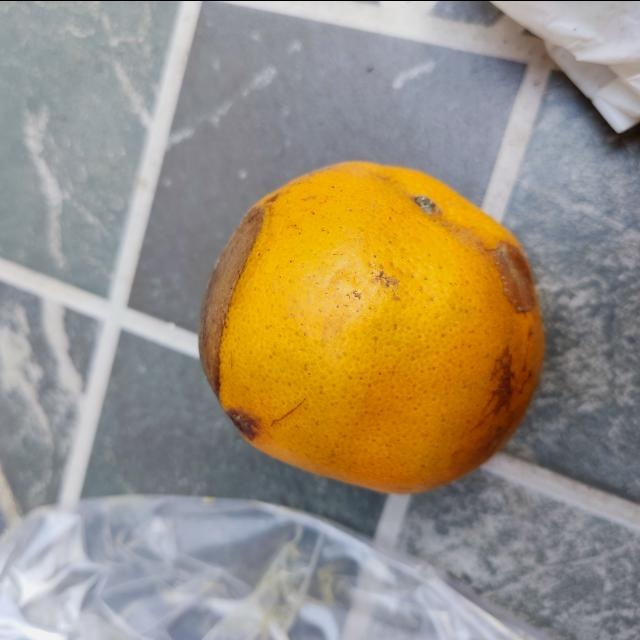agrume: (192, 155, 556, 498)
